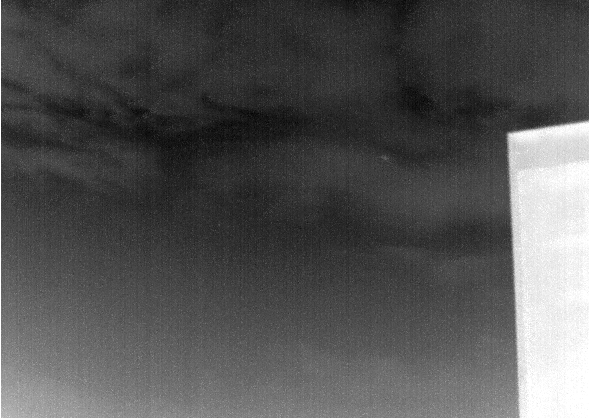dim target: (380, 154, 389, 161)
